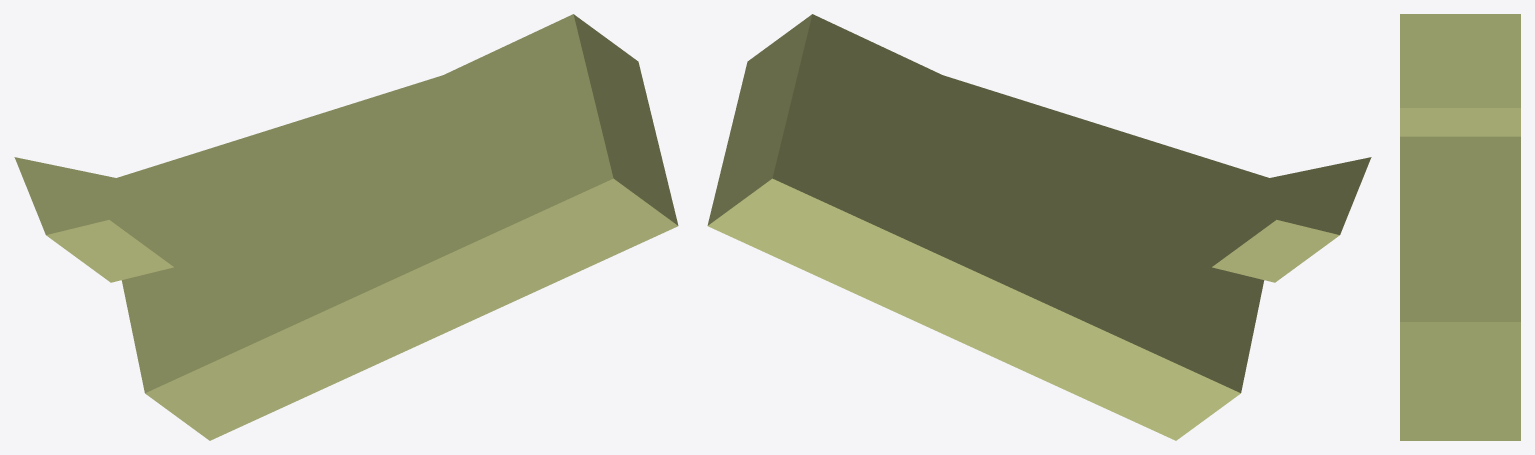
3 renders of one model, left to right at view 1: azimuth 30°, elevation 25°; view 2: azimuth 150°, elevation 25°; view 3: azimuth 270°, elevation 25°, orthographic. The views are drawn at different scales.
Visible parts, largest first — view 1: 0_0_1_1_3_3_2_2_1; view 2: 0_0_1_1_3_3_2_2_1; view 3: 0_0_1_1_3_3_2_2_1.
Boxes of the visible parts, x1=… form: 0_0_1_1_3_3_2_2_1: x1=14, y1=14, x2=678, y2=440; 0_0_1_1_3_3_2_2_1: x1=707, y1=14, x2=1371, y2=440; 0_0_1_1_3_3_2_2_1: x1=1400, y1=14, x2=1520, y2=440.
Size of the model in its own units: 31.93 by 14 by 6.
